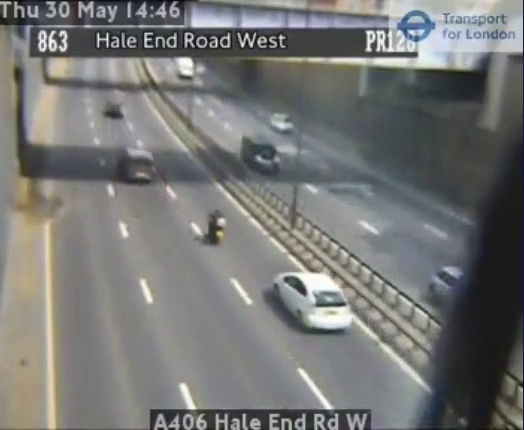car: (274, 271, 351, 330)
motorcycle: (208, 207, 227, 244)
van: (122, 149, 156, 184)
